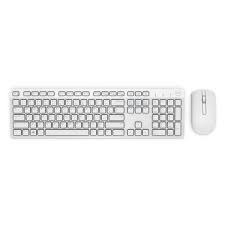keyboard: (10, 88, 184, 139)
mouse: (188, 86, 220, 143)
